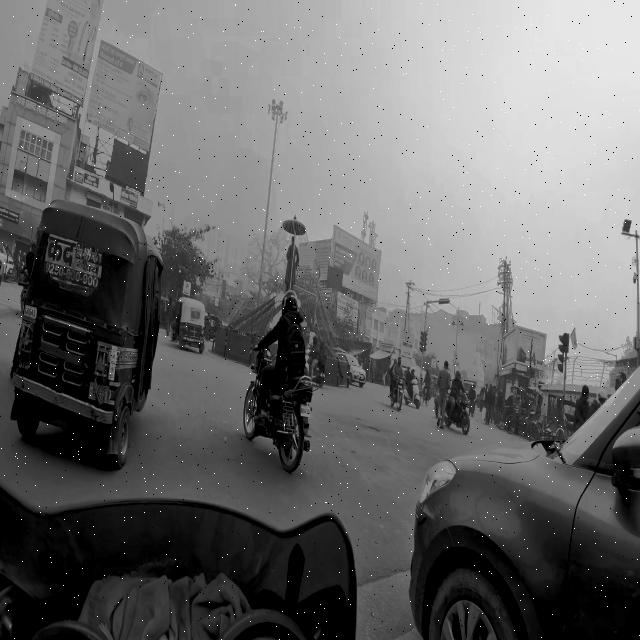Auto-Rickshaw: (13, 217, 165, 474), (243, 286, 320, 486), (170, 286, 211, 364)
Bike: (445, 369, 474, 438), (390, 356, 406, 412), (404, 366, 423, 413)
Car: (407, 330, 640, 639), (338, 351, 368, 390)
